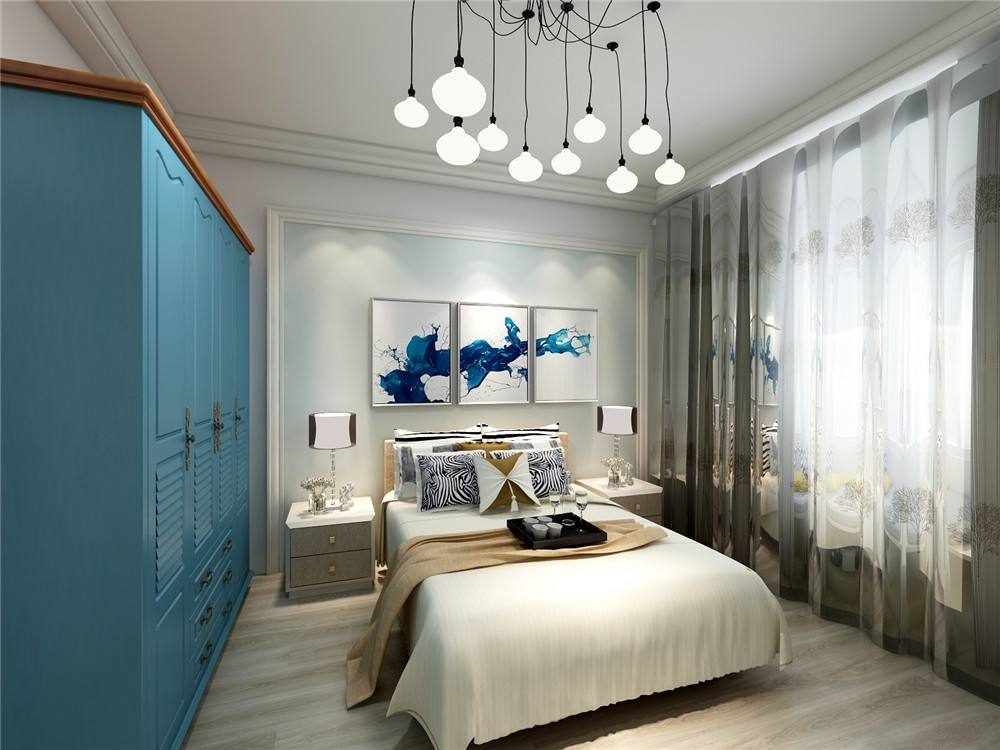床: (370, 501, 782, 747)
枕头: (398, 428, 565, 523)
灯: (389, 0, 708, 186), (303, 412, 358, 515), (597, 401, 649, 490)
